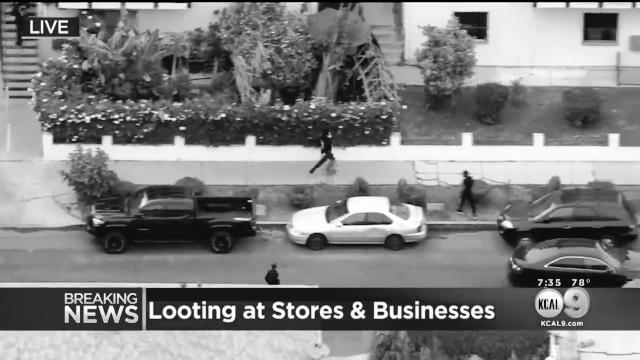berlari: (307, 124, 343, 176)
